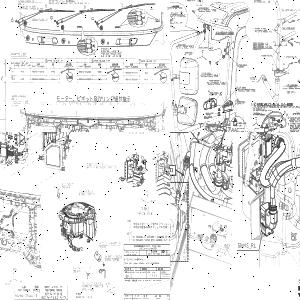PartNumber: (15, 294, 33, 298), (99, 241, 117, 245), (78, 70, 92, 74), (32, 70, 45, 74), (11, 94, 24, 98), (105, 255, 122, 258), (125, 78, 138, 81), (32, 18, 44, 21), (82, 288, 94, 291), (209, 79, 218, 82), (237, 86, 246, 89), (125, 72, 138, 74), (18, 0, 30, 2), (204, 115, 212, 118), (255, 28, 266, 30), (236, 100, 246, 102), (215, 32, 224, 34), (215, 31, 224, 33), (199, 46, 208, 48), (202, 72, 211, 74), (210, 92, 219, 94), (238, 64, 247, 66), (253, 46, 262, 48), (253, 45, 262, 47), (253, 42, 262, 44), (199, 7, 207, 9), (178, 44, 186, 46), (206, 112, 214, 114), (253, 44, 261, 46), (286, 56, 296, 57), (184, 52, 193, 53)
